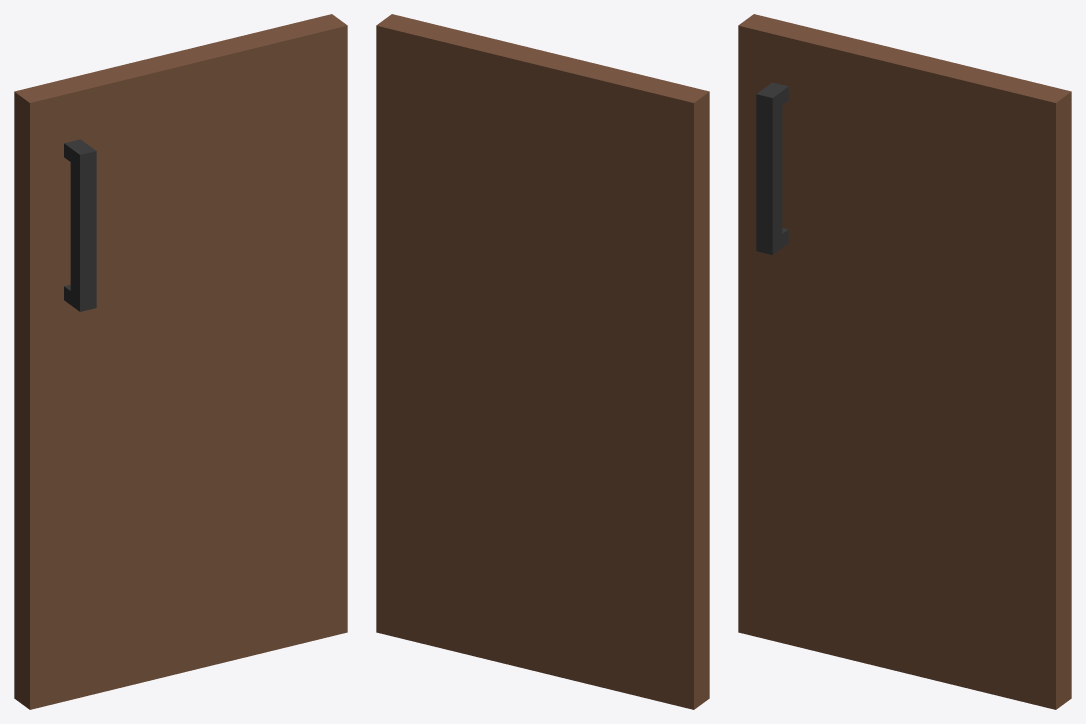
Rendered from Door1_C2_09.fbx.
3 views of the same model, side by side, from view 1: azimuth 30°, elevation 25°; view 2: azimuth 150°, elevation 25°; view 3: azimuth 330°, elevation 25° (orthographic).
Visible parts, largest first — view 1: Door1_C2_09; view 2: Door1_C2_09; view 3: Door1_C2_09.
Boxes of the visible parts, box(x1,y1,x2,y2) form: Door1_C2_09: box(14, 14, 347, 709); Door1_C2_09: box(376, 14, 709, 709); Door1_C2_09: box(738, 14, 1071, 709).
Size of the model in its own units: 29 by 52.92 by 5.03.
